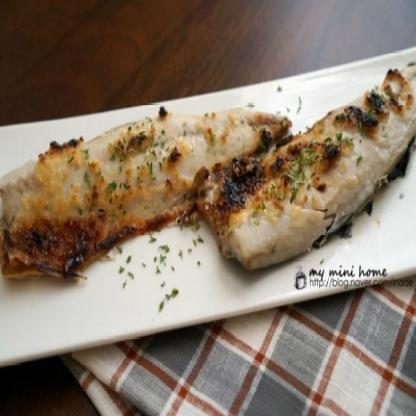Peixe: (0, 61, 416, 300)
